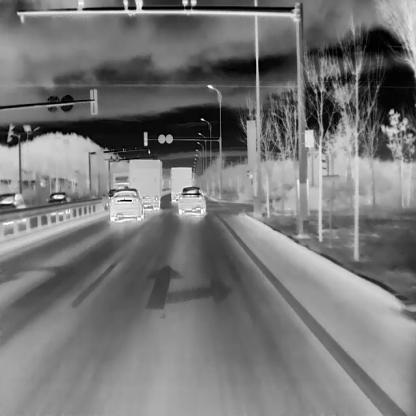car: (108, 188, 144, 220), (0, 191, 24, 224), (178, 186, 206, 214), (45, 190, 72, 215), (107, 188, 117, 198)
truck: (129, 159, 160, 209), (171, 166, 191, 202), (109, 160, 130, 189)
